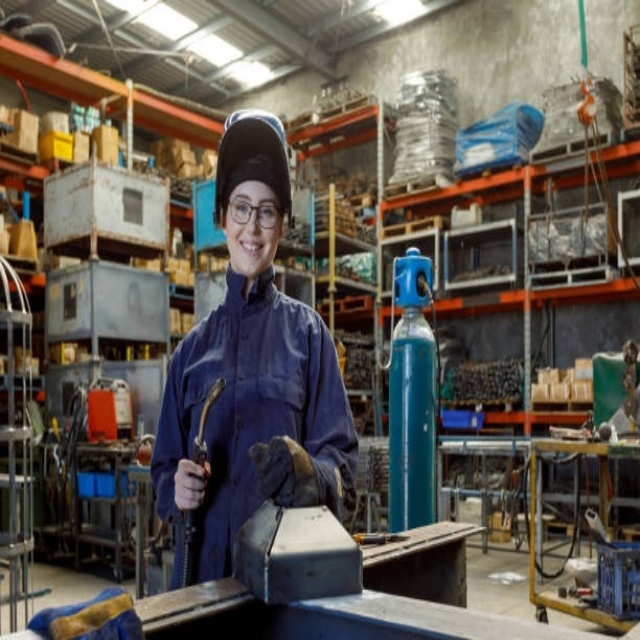Gafas: (227, 191, 280, 231)
Guantes: (248, 434, 329, 510)
Sin_guantes: (174, 457, 208, 511)
Sin_mascara: (237, 231, 267, 262)
